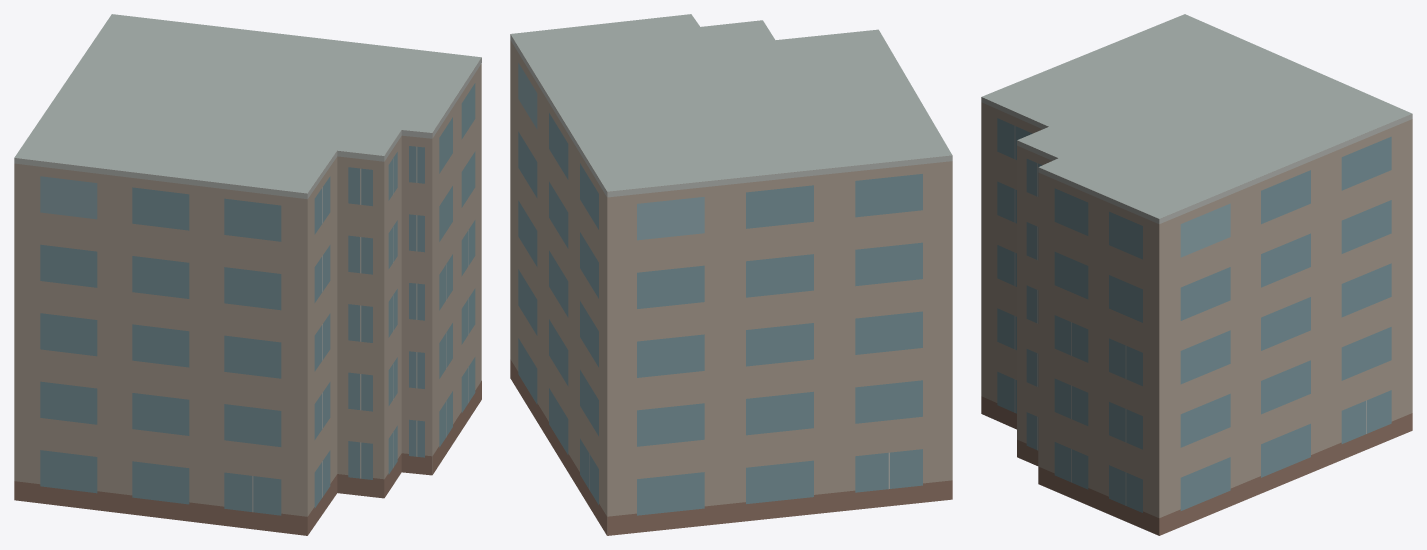
Rendered from survey-upis-32693119.glb.
The picture shows the model from 3 angles, left to right: view 1: azimuth 30°, elevation 25°; view 2: azimuth 150°, elevation 25°; view 3: azimuth 270°, elevation 25°; orthographic projection. The views are drawn at different scales.
Parts seen in each view (by area): view 1: survey-upis-32693119.tmp; view 2: survey-upis-32693119.tmp; view 3: survey-upis-32693119.tmp.
Boxes of the visible parts, left/top/right/bottom form: survey-upis-32693119.tmp: left=14, top=14, right=481, bottom=535; survey-upis-32693119.tmp: left=510, top=14, right=952, bottom=535; survey-upis-32693119.tmp: left=981, top=14, right=1412, bottom=535.
Bounding box in the file's own units: 20.36 × 14.67 × 18.1.
